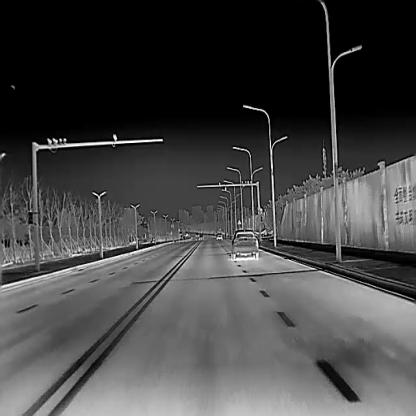car: (230, 228, 258, 258), (215, 233, 222, 240)
